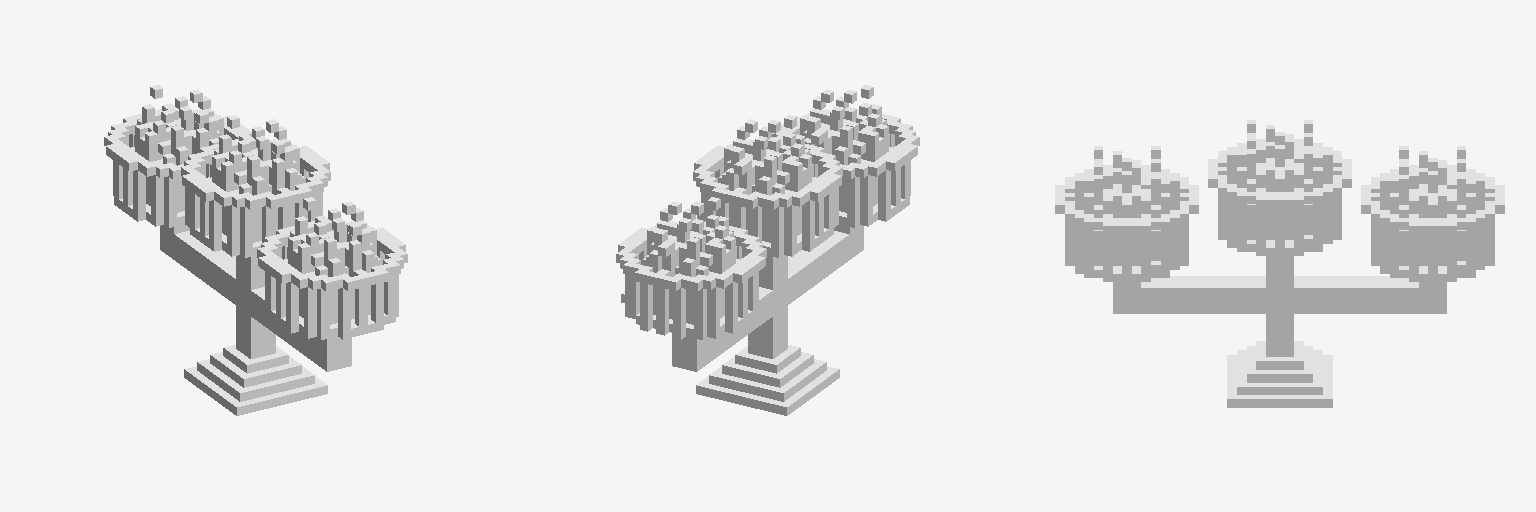
The model's file is 3xkoksownik.obj.
3 renders of one model, left to right at view 1: azimuth 30°, elevation 25°; view 2: azimuth 150°, elevation 25°; view 3: azimuth 270°, elevation 25°, orthographic.
Parts seen in each view (by area): view 1: object 1; view 2: object 1; view 3: object 1.
Part boxes in pixels (left/top/right/bottom): object 1: left=104, top=85, right=407, bottom=415; object 1: left=616, top=85, right=919, bottom=415; object 1: left=1055, top=120, right=1504, bottom=407.
Bounding box in the file's own units: 1.5 × 3 × 4.7.